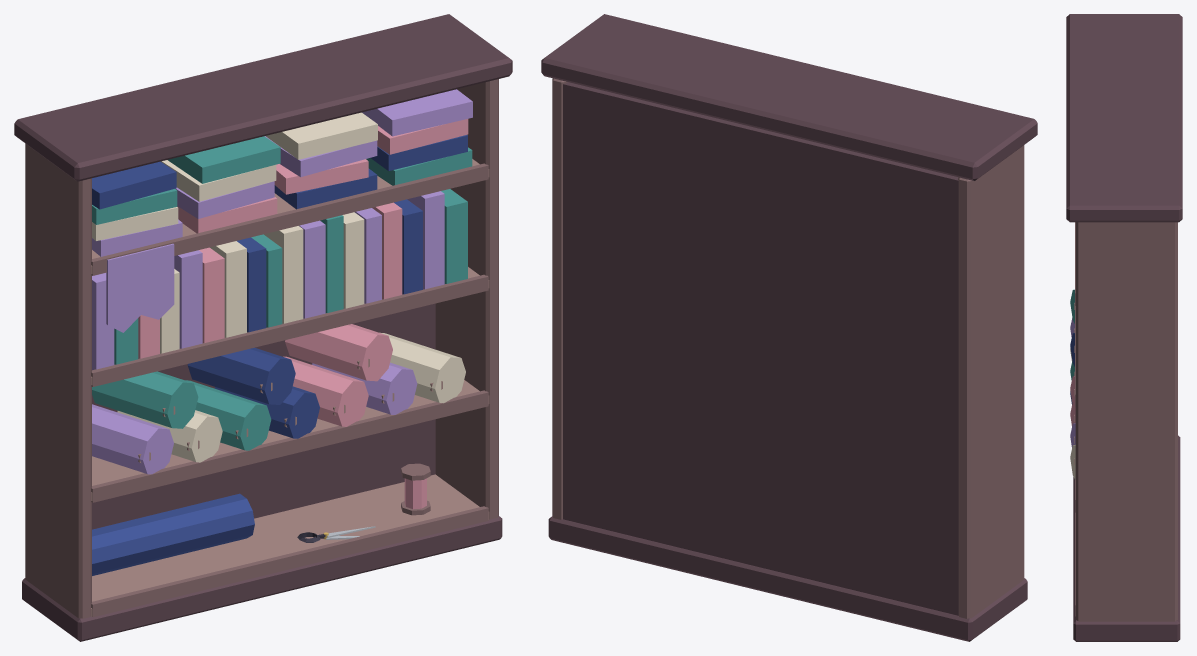
The model's file is cloth_rack.glb.
3 views of the same model, side by side, from view 1: azimuth 30°, elevation 25°; view 2: azimuth 150°, elevation 25°; view 3: azimuth 270°, elevation 25° (orthographic). The views are drawn at different scales.
Parts seen in each view (by area): view 1: cloth_rack; view 2: cloth_rack; view 3: cloth_rack.
Boxes of the visible parts, bbox=[...] form: cloth_rack: bbox=[14, 14, 512, 641]; cloth_rack: bbox=[541, 14, 1037, 641]; cloth_rack: bbox=[1066, 14, 1182, 641].
Size of the model in its own units: 1.98 by 2.08 by 0.5.
